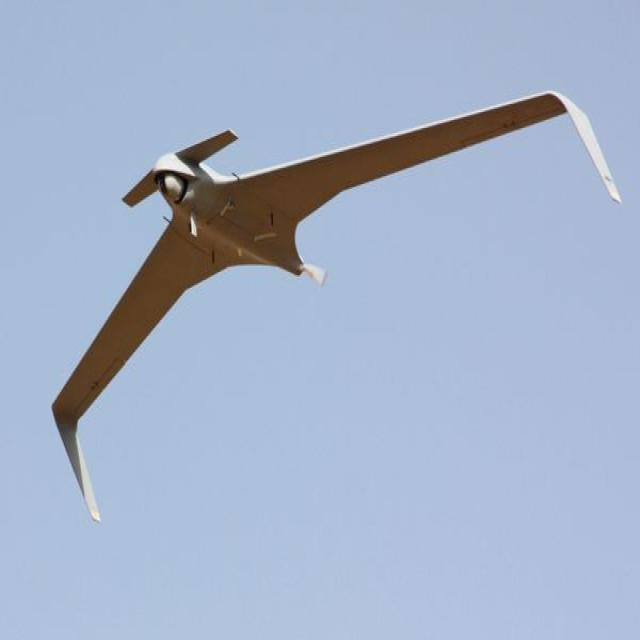iha: (48, 74, 621, 525)
